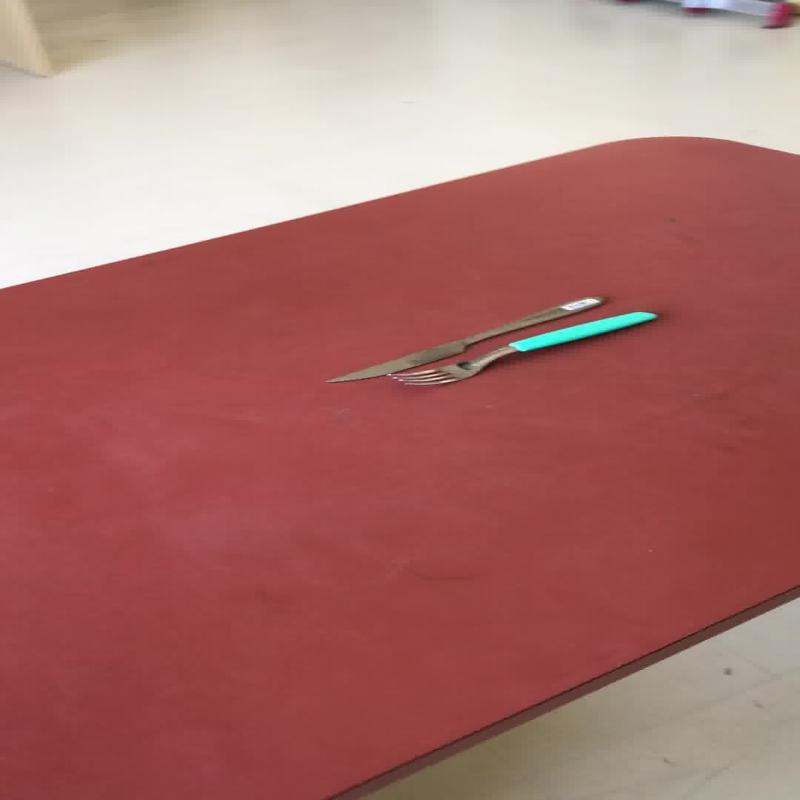fork: (387, 309, 657, 386)
knife: (322, 294, 604, 384), (386, 309, 657, 386)
